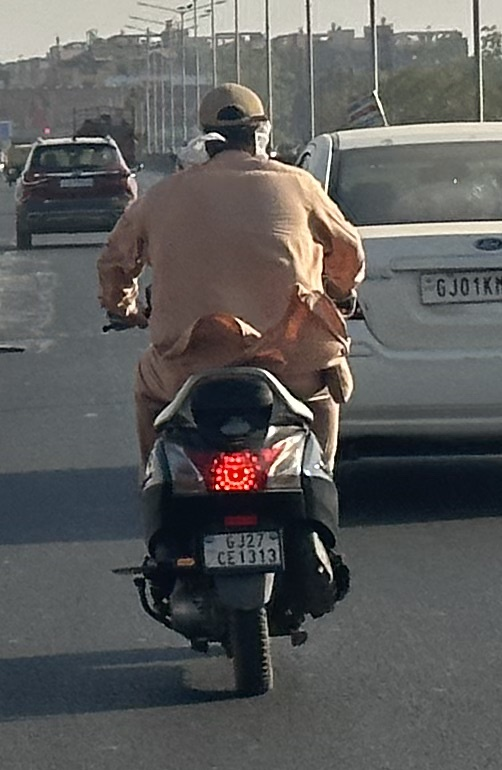BikeWithRider: (85, 75, 380, 707)
NoHelmet: (188, 76, 281, 167)
